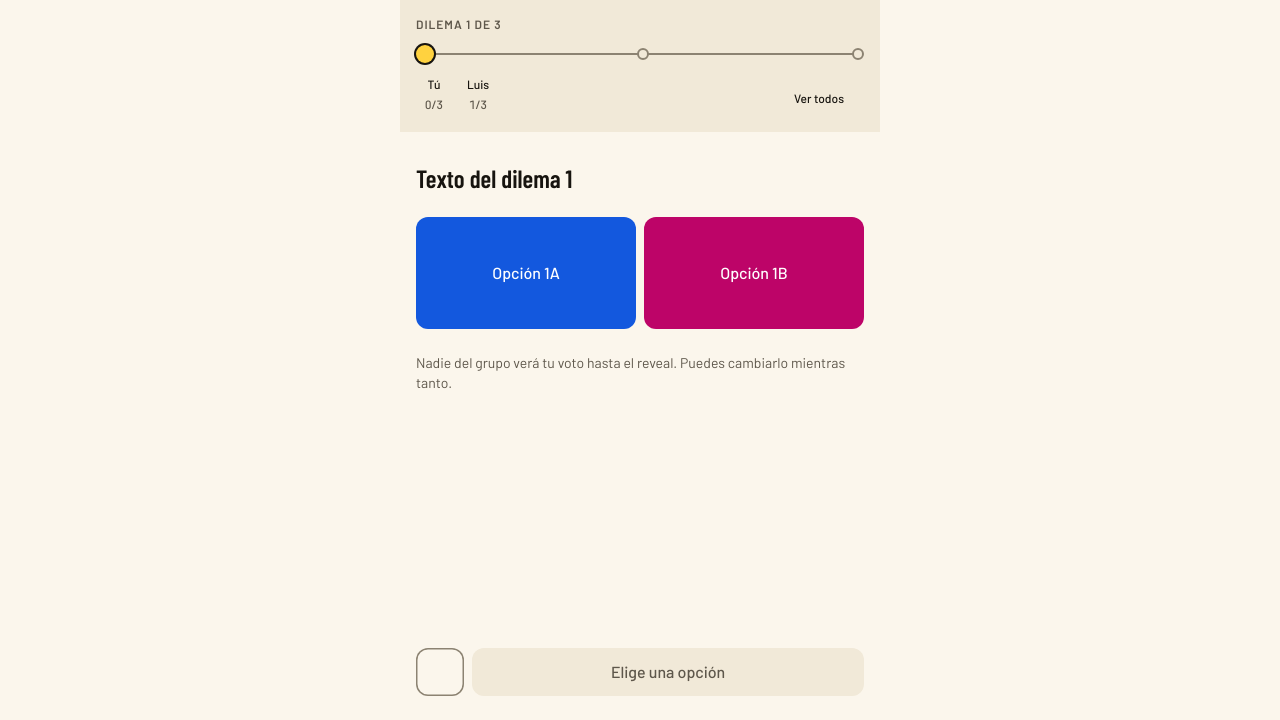
Test: DilemmaScreen › should open the whole group from the header
Click the button "Ver todos" at [829, 98], box x1=794 y1=76 x2=864 y2=120
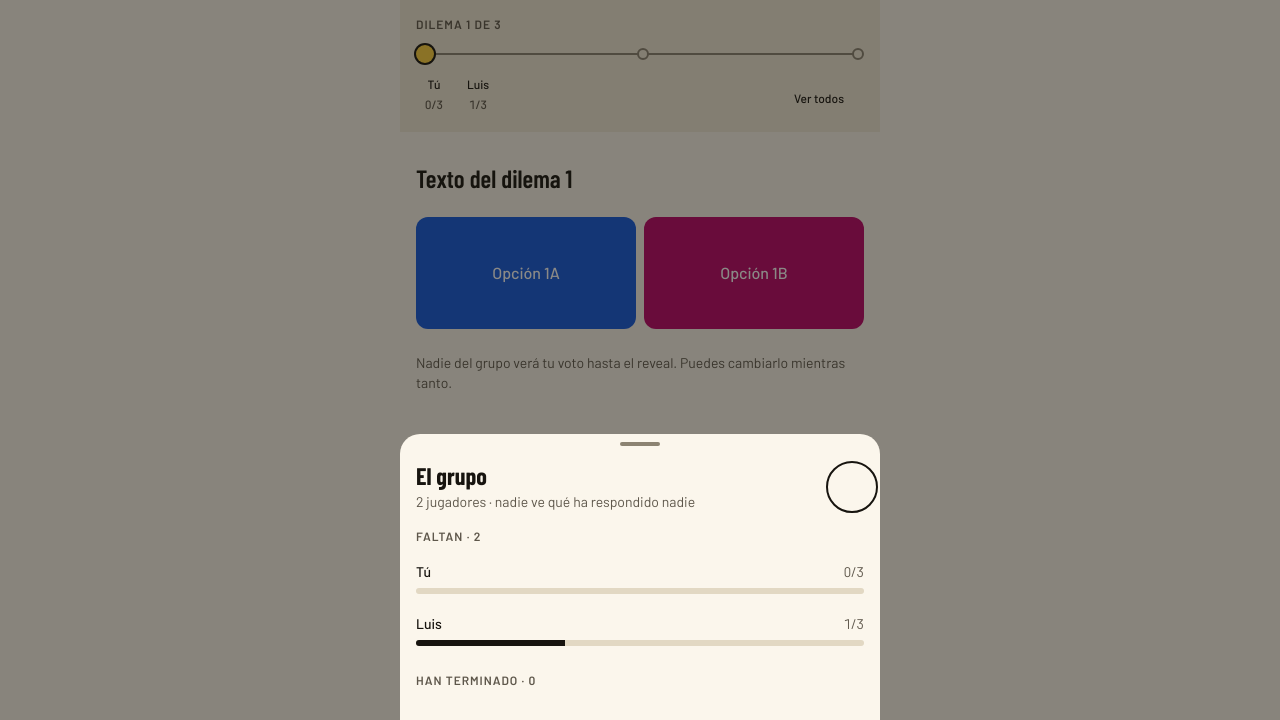
Now the dialog "El grupo" is shown, box x1=400 y1=434 x2=880 y2=719
